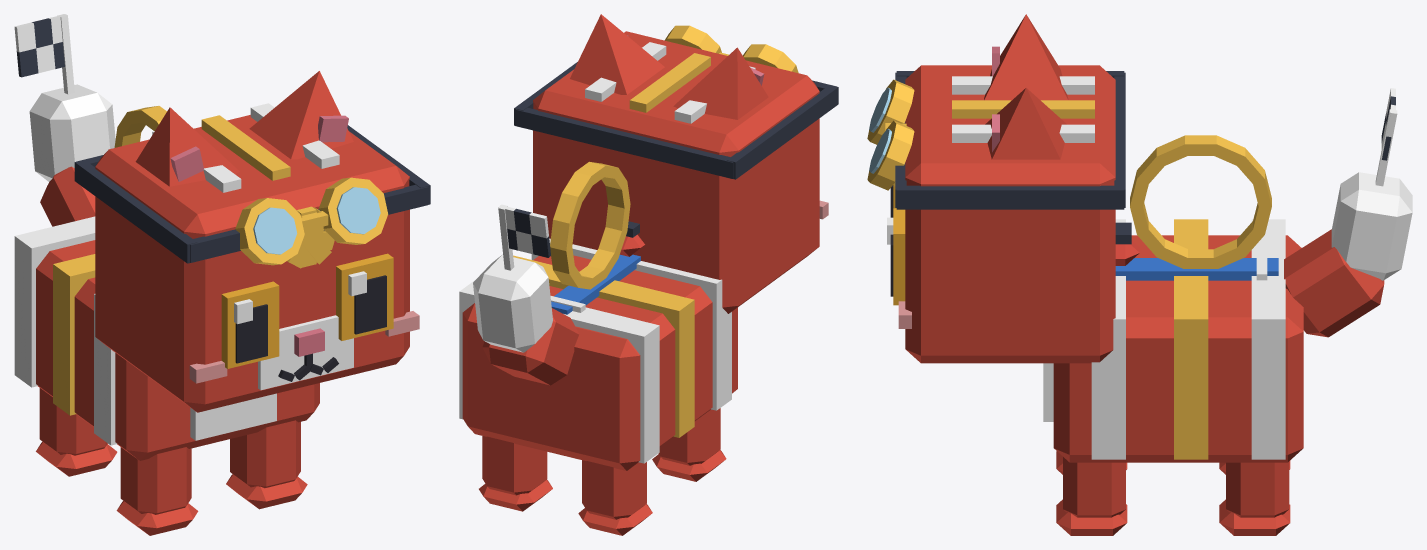
File: CatCafe_Cat_Coaster.glb
The picture shows the model from 3 angles, left to right: view 1: azimuth 30°, elevation 25°; view 2: azimuth 150°, elevation 25°; view 3: azimuth 270°, elevation 25°; orthographic projection. The views are drawn at different scales.
Visible parts, largest first — view 1: CatCafe_Cat_Coaster_Head, CatCafe_Cat_Coaster_Body, CatCafe_Cat_Coaster_Prop, CatCafe_Cat_Coaster_Tail, CatCafe_Cat_Coaster_LegF2, CatCafe_Cat_Coaster_LegF1, CatCafe_Cat_Coaster_EarL, CatCafe_Cat_Coaster_Eye2, CatCafe_Cat_Coaster_Eye1, CatCafe_Cat_Coaster_EarR, CatCafe_Cat_Coaster_LegB2, CatCafe_Cat_Coaster_Tail_Flag (+1 smaller); view 2: CatCafe_Cat_Coaster_Head, CatCafe_Cat_Coaster_Body, CatCafe_Cat_Coaster_Prop, CatCafe_Cat_Coaster_Tail, CatCafe_Cat_Coaster_Loop_Glow, CatCafe_Cat_Coaster_LegB2, CatCafe_Cat_Coaster_LegB1, CatCafe_Cat_Coaster_EarL, CatCafe_Cat_Coaster_EarR, CatCafe_Cat_Coaster_LegF2, CatCafe_Cat_Coaster_Tail_Flag, CatCafe_Cat_Coaster_Prop2; view 3: CatCafe_Cat_Coaster_Head, CatCafe_Cat_Coaster_Body, CatCafe_Cat_Coaster_Tail, CatCafe_Cat_Coaster_Prop, CatCafe_Cat_Coaster_Loop_Glow, CatCafe_Cat_Coaster_LegB1, CatCafe_Cat_Coaster_LegF1, CatCafe_Cat_Coaster_EarR, CatCafe_Cat_Coaster_EarL, CatCafe_Cat_Coaster_Prop2, CatCafe_Cat_Coaster_Eye1, CatCafe_Cat_Coaster_Tail_Flag.
Boxes of the visible parts, x1,y1,x2,y2 form: CatCafe_Cat_Coaster_Head: (95,103,419,412); CatCafe_Cat_Coaster_Body: (14,216,319,460); CatCafe_Cat_Coaster_Prop: (74,125,430,265); CatCafe_Cat_Coaster_Tail: (29,84,115,226); CatCafe_Cat_Coaster_LegF2: (116,447,198,535); CatCafe_Cat_Coaster_LegF1: (226,420,307,509); CatCafe_Cat_Coaster_EarL: (249,71,353,159); CatCafe_Cat_Coaster_Eye2: (221,281,279,368); CatCafe_Cat_Coaster_Eye1: (336,253,393,340); CatCafe_Cat_Coaster_EarR: (135,107,239,186); CatCafe_Cat_Coaster_LegB2: (36,388,117,476); CatCafe_Cat_Coaster_Tail_Flag: (14,14,74,94); CatCafe_Cat_Coaster_Head: (533,31,828,313); CatCafe_Cat_Coaster_Body: (459,238,737,470); CatCafe_Cat_Coaster_Prop: (514,25,838,179); CatCafe_Cat_Coaster_Tail: (473,254,578,385); CatCafe_Cat_Coaster_Loop_Glow: (550,161,630,289); CatCafe_Cat_Coaster_LegB2: (578,460,652,535); CatCafe_Cat_Coaster_LegB1: (479,436,552,511); CatCafe_Cat_Coaster_EarL: (570,14,664,94); CatCafe_Cat_Coaster_EarR: (673,47,768,119); CatCafe_Cat_Coaster_LegF2: (652,408,726,481); CatCafe_Cat_Coaster_Tail_Flag: (498,204,550,270); CatCafe_Cat_Coaster_Prop2: (550,221,644,314); CatCafe_Cat_Coaster_Head: (893,65,1115,363); CatCafe_Cat_Coaster_Body: (1043,219,1303,462); CatCafe_Cat_Coaster_Tail: (1284,172,1412,337); CatCafe_Cat_Coaster_Prop: (867,71,1125,209); CatCafe_Cat_Coaster_Loop_Glow: (1130,135,1271,268); CatCafe_Cat_Coaster_LegB1: (1219,461,1290,535); CatCafe_Cat_Coaster_LegF1: (1056,457,1127,535); CatCafe_Cat_Coaster_EarR: (984,14,1068,100); CatCafe_Cat_Coaster_EarL: (985,88,1066,159); CatCafe_Cat_Coaster_Prop2: (1115,222,1278,280); CatCafe_Cat_Coaster_Eye1: (887,208,905,305); CatCafe_Cat_Coaster_Tail_Flag: (1375,88,1397,186).
Size of the model in its own units: 1.29 by 2.26 by 2.49.
1 material, 1 textured.
